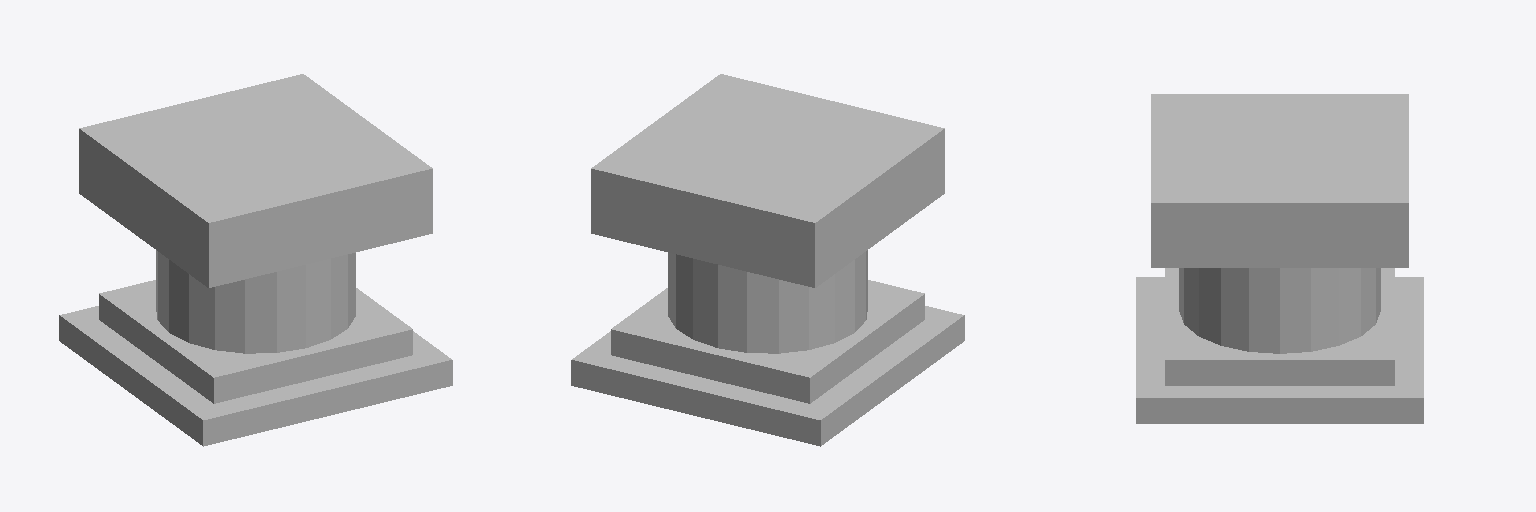
The model's file is ShortTower.obj.
3 renders of one model, left to right at view 1: azimuth 30°, elevation 25°; view 2: azimuth 150°, elevation 25°; view 3: azimuth 270°, elevation 25°, orthographic.
Parts seen in each view (by area): view 1: pCube4, pCube1, pCylinder1, pCube2; view 2: pCube4, pCube1, pCylinder1, pCube2; view 3: pCube4, pCube1, pCylinder1, pCube2.
Boxes of the visible parts, <box> form: pCube4: <box>79,74,432,287</box>; pCube1: <box>59,306,452,446</box>; pCylinder1: <box>156,250,355,353</box>; pCube2: <box>99,280,412,403</box>; pCube4: <box>591,74,944,287</box>; pCube1: <box>571,306,964,446</box>; pCylinder1: <box>668,250,867,353</box>; pCube2: <box>611,280,924,403</box>; pCube4: <box>1151,94,1408,267</box>; pCube1: <box>1136,277,1423,423</box>; pCylinder1: <box>1179,268,1380,353</box>; pCube2: <box>1165,268,1394,385</box>.
Bounding box in the file's own units: 2 × 1.65 × 2.